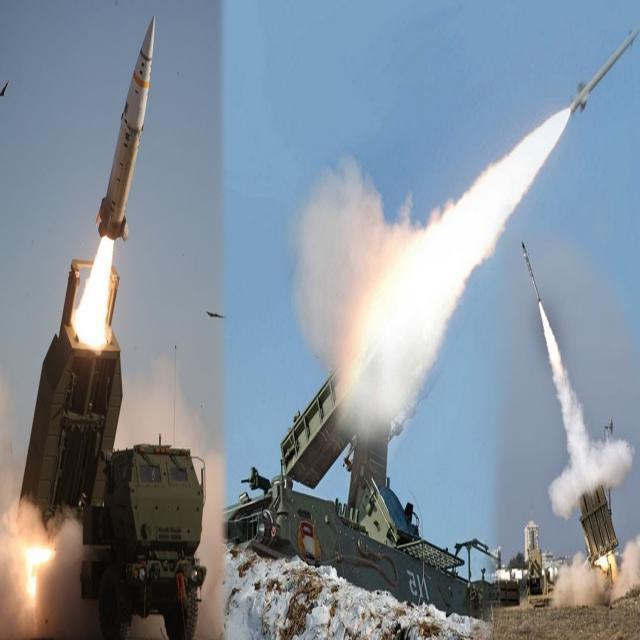missile: (99, 13, 159, 249), (568, 23, 640, 119), (518, 239, 544, 305)
